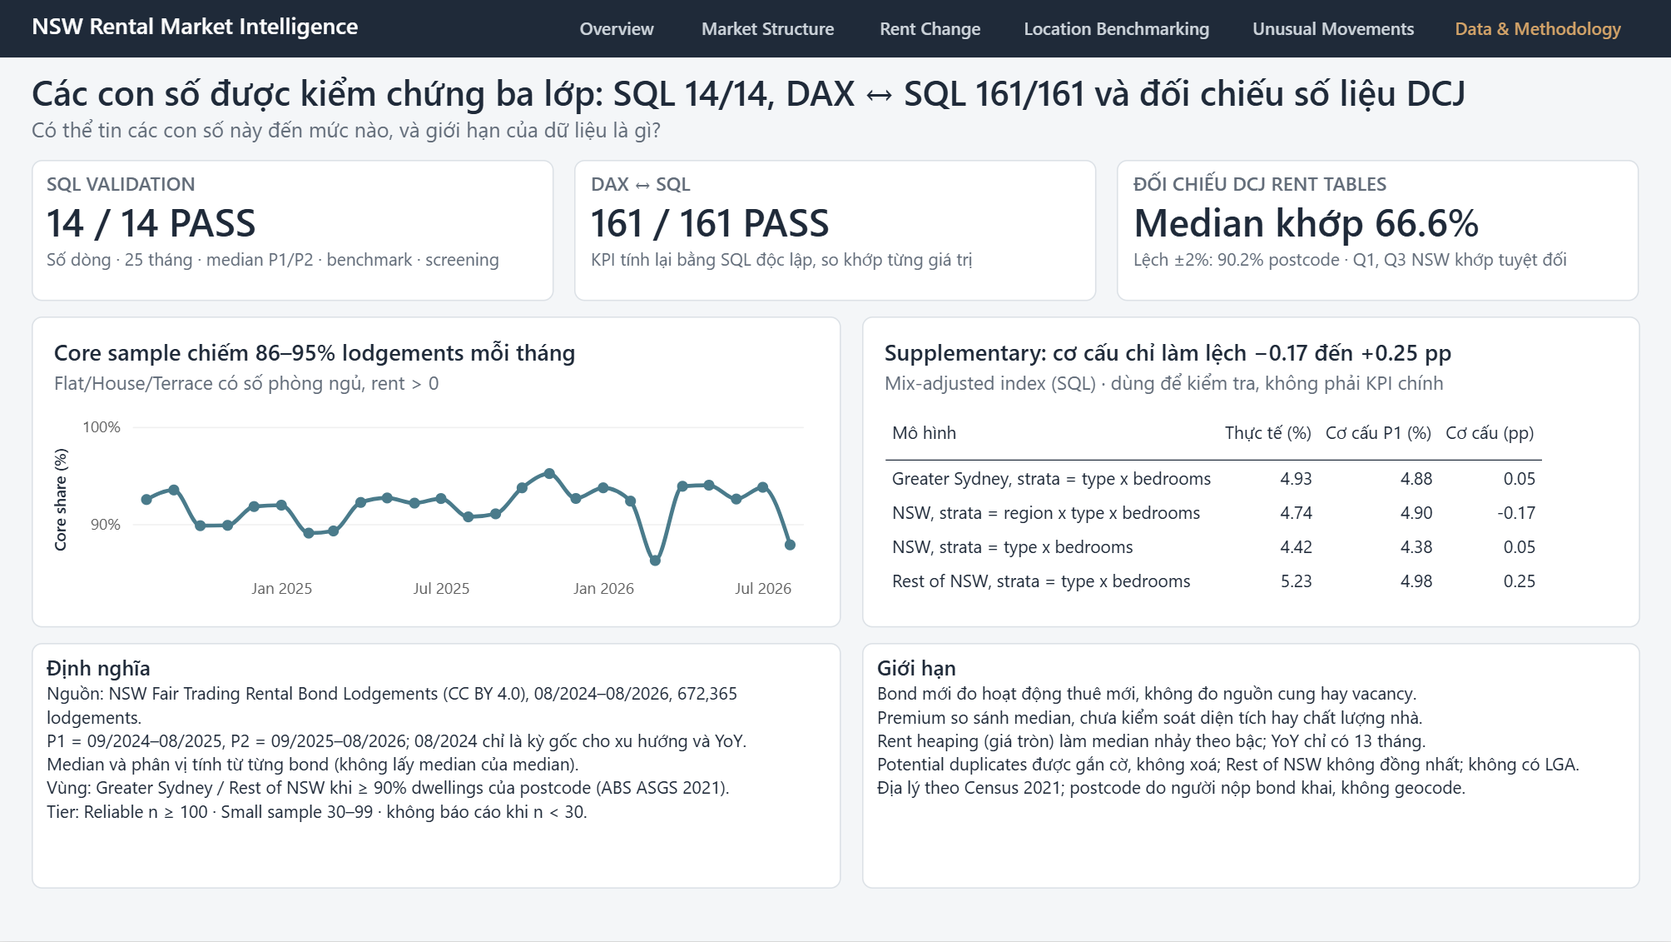

The page's visual inventory and layout, read from the dashboard file:
{"tool":"powerbi","page":{"name":"Data & Methodology","canvas":[1280,720],"ordinal":6},"visuals":[{"type":"textbox","box":[0,0,1280,44],"z":1000},{"type":"textbox","box":[24,8,380,30],"z":1001},{"type":"actionButton","box":[424,6,96,32],"z":1002},{"type":"actionButton","box":[520,6,136,32],"z":1002},{"type":"actionButton","box":[656,6,112,32],"z":1002},{"type":"actionButton","box":[768,6,176,32],"z":1002},{"type":"actionButton","box":[944,6,156,32],"z":1002},{"type":"actionButton","box":[1100,6,156,32],"z":1002},{"type":"textbox","box":[24,52,1232,36],"z":2000},{"type":"textbox","box":[24,88,1232,26],"z":2000},{"type":"textbox","box":[24,122,400,108],"z":3000},{"type":"textbox","box":[440,122,400,108],"z":3000},{"type":"textbox","box":[856,122,400,108],"z":3000},{"type":"textbox","box":[36,130,376,92],"z":3001},{"type":"textbox","box":[452,130,376,92],"z":3001},{"type":"textbox","box":[868,130,376,92],"z":3001},{"type":"lineChart","title":"Core sample chiếm 86–95% lodgements mỗi tháng","fields":{"Category":["dim_date.month_start"],"Y":["fact_lodgements.Core Share %"]},"box":[24,242,620,238],"z":4000},{"type":"tableEx","title":"Supplementary: cơ cấu chỉ làm lệch −0.17 đến +0.25 pp","fields":{"Values":["mart_mix_index.index_name","mart_mix_index.actual_weight_change_pct","mart_mix_index.mix_adjusted_change_pct","mart_mix_index.composition_effect_pp"]},"box":[660,242,596,238],"z":5000},{"type":"textbox","box":[24,492,620,188],"z":6000},{"type":"textbox","box":[36,500,596,172],"z":6001},{"type":"textbox","box":[660,492,596,188],"z":7000},{"type":"textbox","box":[672,500,572,172],"z":7001}]}

Visuals, with their boxes in screenshot pixels (x1, y1, x2, y2), scaled from the page's 1280x720 canvas onto the 1671x942 screenshot:
textbox: box(0, 0, 1670, 58)
textbox: box(31, 10, 527, 50)
actionButton: box(554, 8, 679, 50)
actionButton: box(679, 8, 856, 50)
actionButton: box(856, 8, 1003, 50)
actionButton: box(1003, 8, 1232, 50)
actionButton: box(1232, 8, 1436, 50)
actionButton: box(1436, 8, 1640, 50)
textbox: box(31, 68, 1640, 115)
textbox: box(31, 115, 1640, 149)
textbox: box(31, 160, 554, 301)
textbox: box(574, 160, 1097, 301)
textbox: box(1117, 160, 1640, 301)
textbox: box(47, 170, 538, 290)
textbox: box(590, 170, 1081, 290)
textbox: box(1133, 170, 1624, 290)
"Core sample chiếm 86–95% lodgements mỗi tháng" lineChart: box(31, 317, 841, 628)
"Supplementary: cơ cấu chỉ làm lệch −0.17 đến +0.25 pp" tableEx: box(862, 317, 1640, 628)
textbox: box(31, 644, 841, 890)
textbox: box(47, 654, 825, 879)
textbox: box(862, 644, 1640, 890)
textbox: box(877, 654, 1624, 879)
